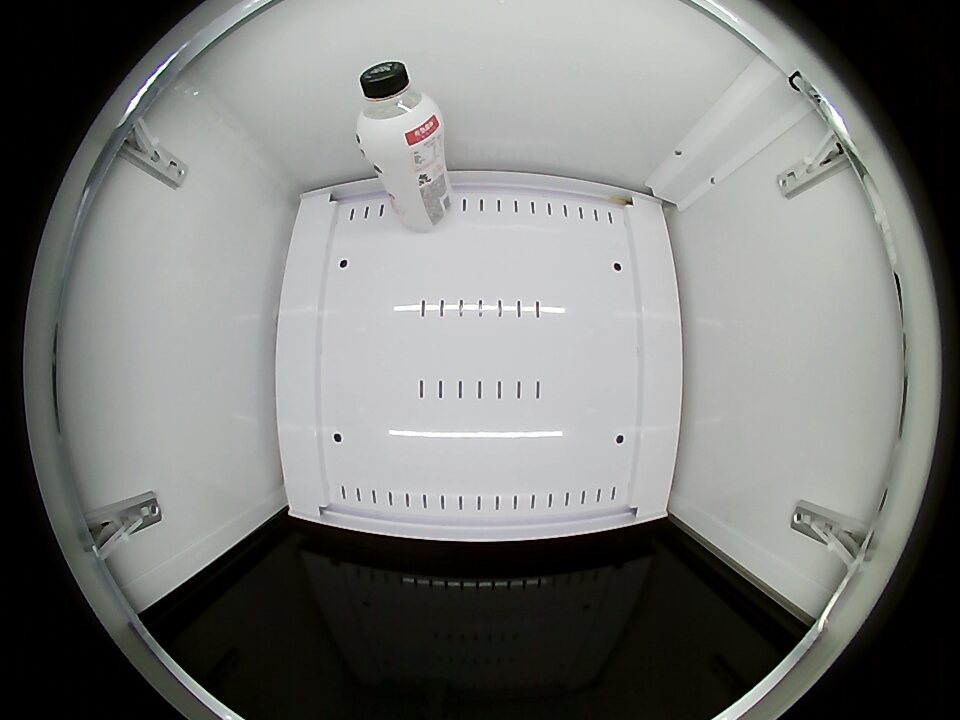yuanqishui: (356, 61, 443, 156)
